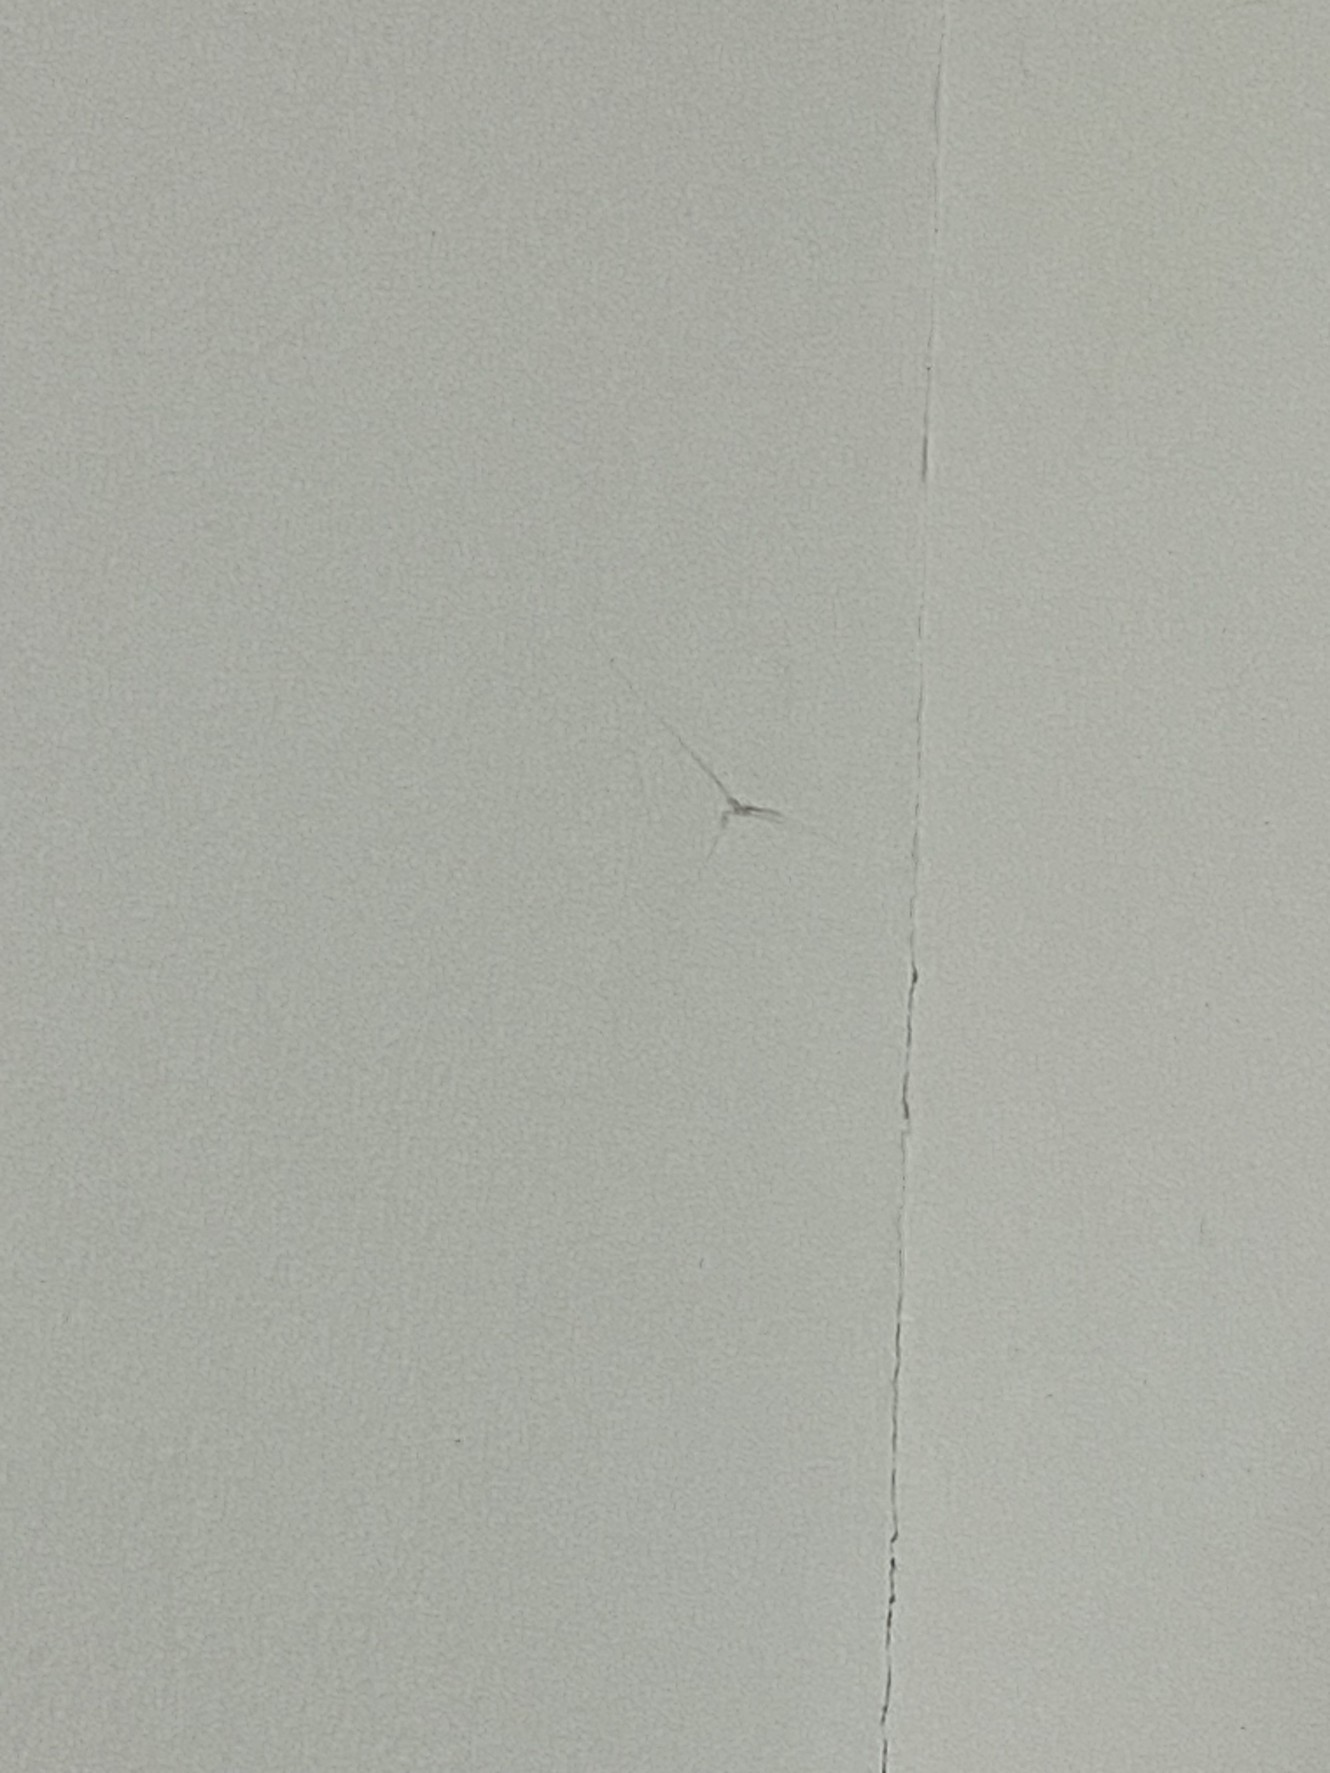Low: (606, 32, 939, 1773)
